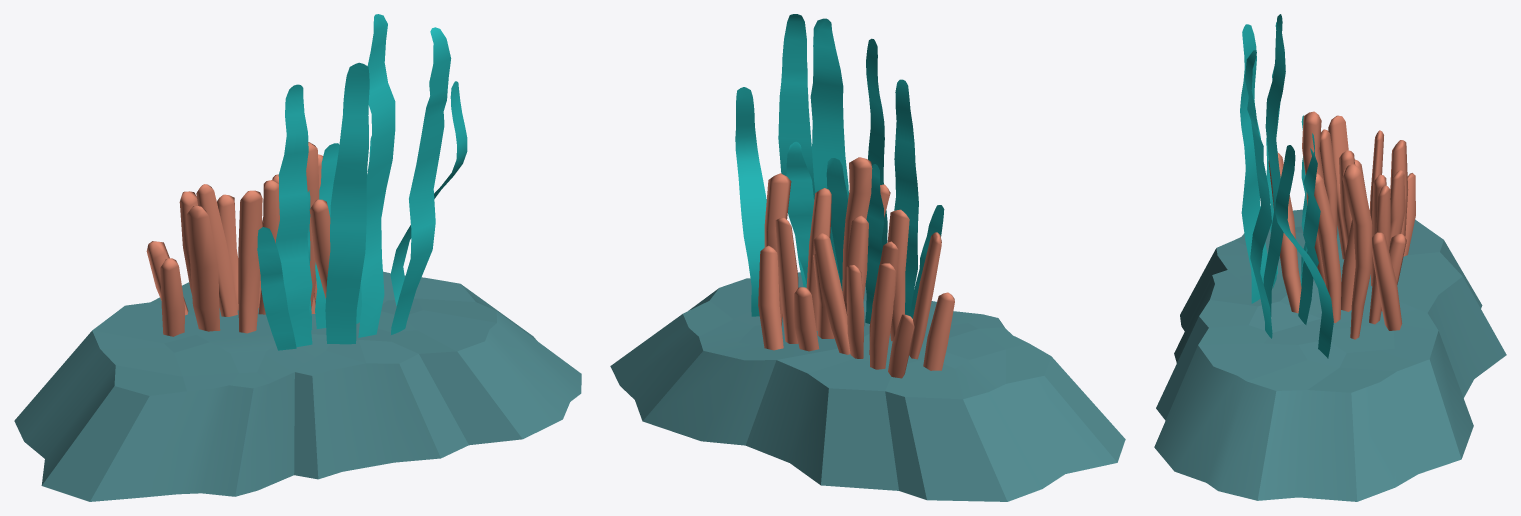
The model's file is coral_symbiosis_F.fbx.
3 renders of one model, left to right at view 1: azimuth 30°, elevation 25°; view 2: azimuth 150°, elevation 25°; view 3: azimuth 270°, elevation 25°, orthographic. The views are drawn at different scales.
Visible parts, largest first — view 1: coral_symbiosis_F_base, coral_symbiosis_E_anemone, coral_symbiosis_F_kelp_C, coral_symbiosis_F_kelp_D, coral_symbiosis_F_kelp_A, coral_symbiosis_F_kelp_B, coral_symbiosis_F_kelp_I, coral_symbiosis_F_kelp_E, coral_symbiosis_F_kelp_G; view 2: coral_symbiosis_F_base, coral_symbiosis_E_anemone, coral_symbiosis_F_kelp_A, coral_symbiosis_F_kelp_E, coral_symbiosis_F_kelp_B, coral_symbiosis_F_kelp_D, coral_symbiosis_F_kelp_F, coral_symbiosis_F_kelp_C, coral_symbiosis_F_kelp_H, coral_symbiosis_F_kelp_G, coral_symbiosis_F_kelp_I; view 3: coral_symbiosis_F_base, coral_symbiosis_E_anemone, coral_symbiosis_F_kelp_C, coral_symbiosis_F_kelp_A, coral_symbiosis_F_kelp_B, coral_symbiosis_F_kelp_E, coral_symbiosis_F_kelp_F.
Boxes of the visible parts, x1,y1,x2,y2 form: coral_symbiosis_F_base: (14,271,581,501); coral_symbiosis_E_anemone: (146,142,330,336); coral_symbiosis_F_kelp_C: (325,62,369,344); coral_symbiosis_F_kelp_D: (276,84,312,347); coral_symbiosis_F_kelp_A: (358,14,395,337); coral_symbiosis_F_kelp_B: (391,27,451,334); coral_symbiosis_F_kelp_I: (257,227,296,350); coral_symbiosis_F_kelp_E: (390,81,467,305); coral_symbiosis_F_kelp_G: (315,143,339,328); coral_symbiosis_F_base: (610,272,1125,501); coral_symbiosis_E_anemone: (758,157,954,378); coral_symbiosis_F_kelp_A: (810,18,848,281); coral_symbiosis_F_kelp_E: (735,87,766,316); coral_symbiosis_F_kelp_B: (778,14,815,287); coral_symbiosis_F_kelp_D: (894,79,918,315); coral_symbiosis_F_kelp_F: (786,141,814,283); coral_symbiosis_F_kelp_C: (866,38,887,247); coral_symbiosis_F_kelp_H: (865,164,884,323); coral_symbiosis_F_kelp_G: (826,158,847,290); coral_symbiosis_F_kelp_I: (910,205,944,318); coral_symbiosis_F_base: (1154,209,1506,501); coral_symbiosis_E_anemone: (1268,111,1415,339); coral_symbiosis_F_kelp_C: (1240,24,1267,303); coral_symbiosis_F_kelp_A: (1263,14,1285,316); coral_symbiosis_F_kelp_B: (1245,50,1272,338); coral_symbiosis_F_kelp_E: (1275,145,1333,358); coral_symbiosis_F_kelp_F: (1298,148,1320,324).
Bounding box in the file's own units: 135 × 98.16 × 79.79.
